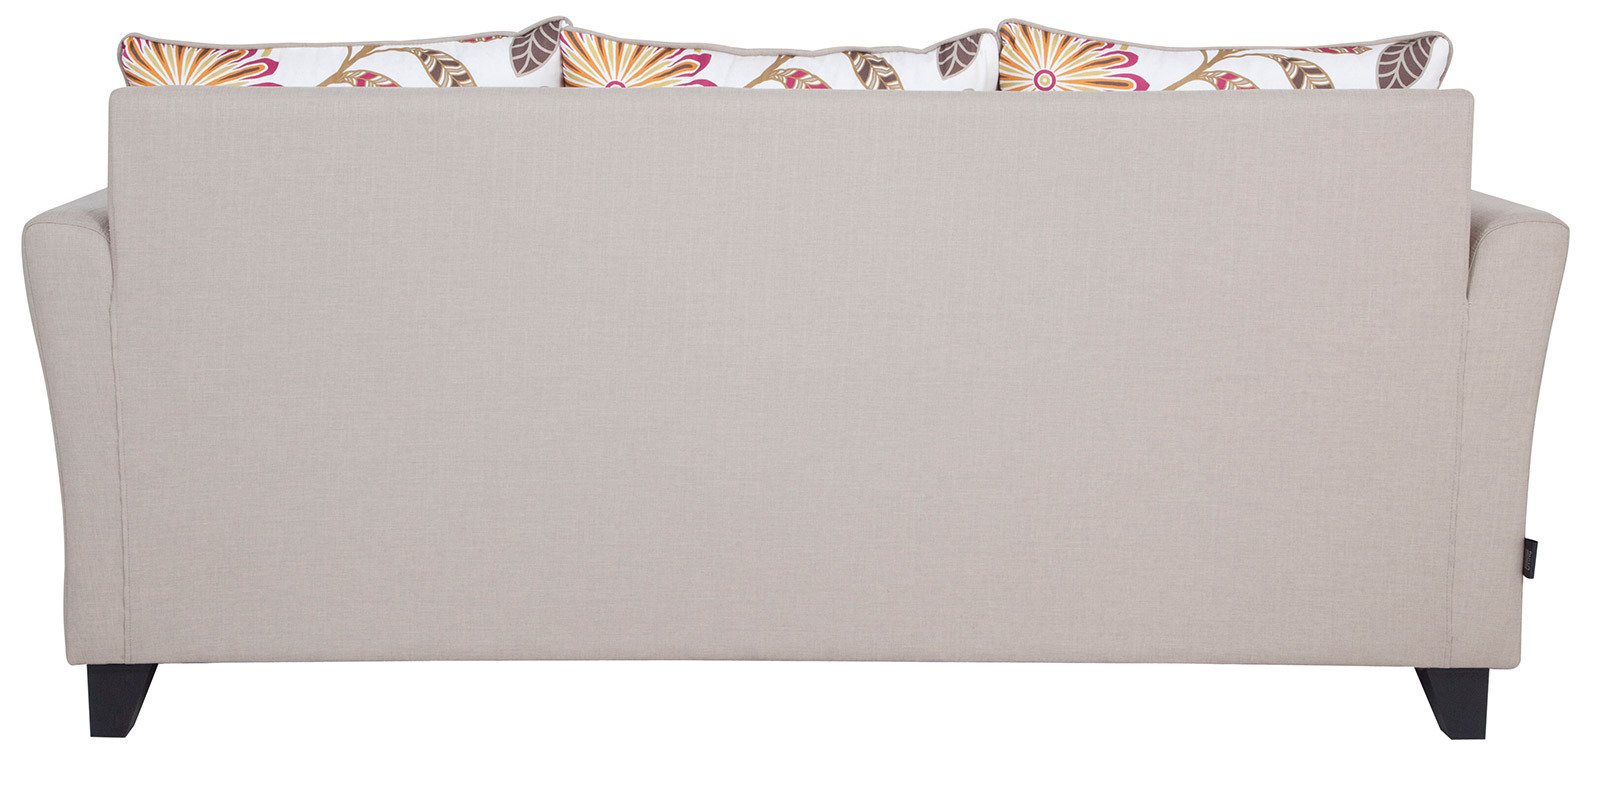Mumbai Glitz Three Seater Sofa in Beige Colour by Urban Living: (18, 14, 1572, 739)
